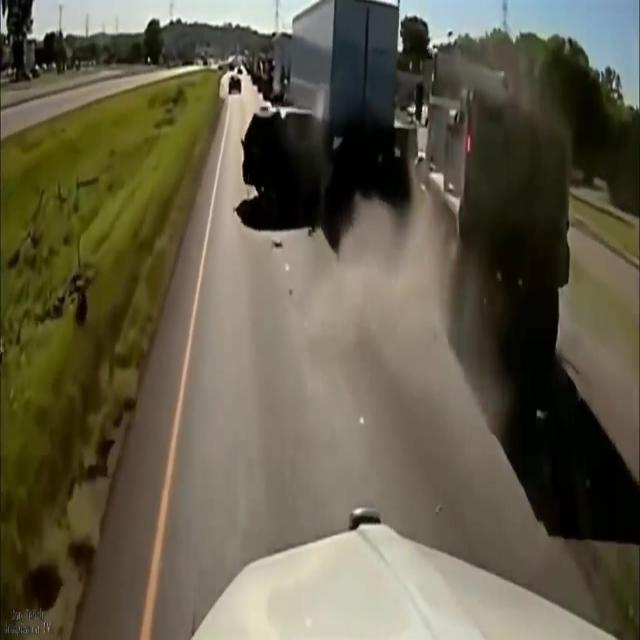accident: (236, 81, 368, 235)
